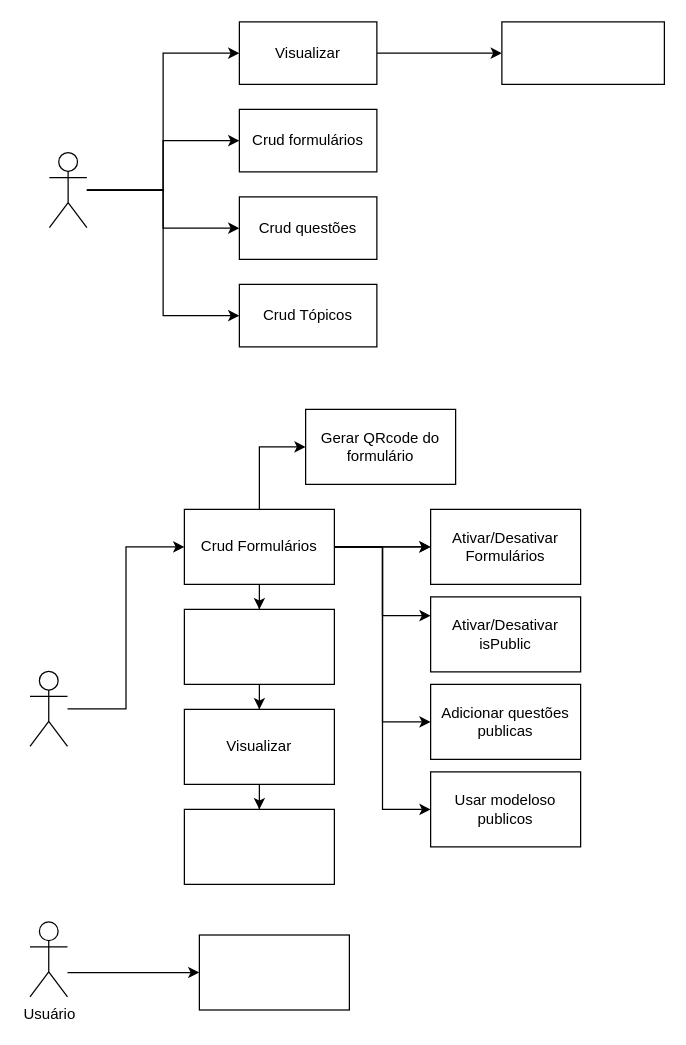
Some shapes in this 686 by 1045 pixel diagram are drawn without their labels. Each missing label, with the box of its shape:
Administrador: (48, 151, 87, 228)
Criar: (183, 608, 334, 684)
Editar: (183, 808, 334, 884)
Gerente: (29, 670, 68, 746)
Responder formulário: (198, 934, 349, 1010)
Visualizar formulários: (501, 21, 664, 84)
